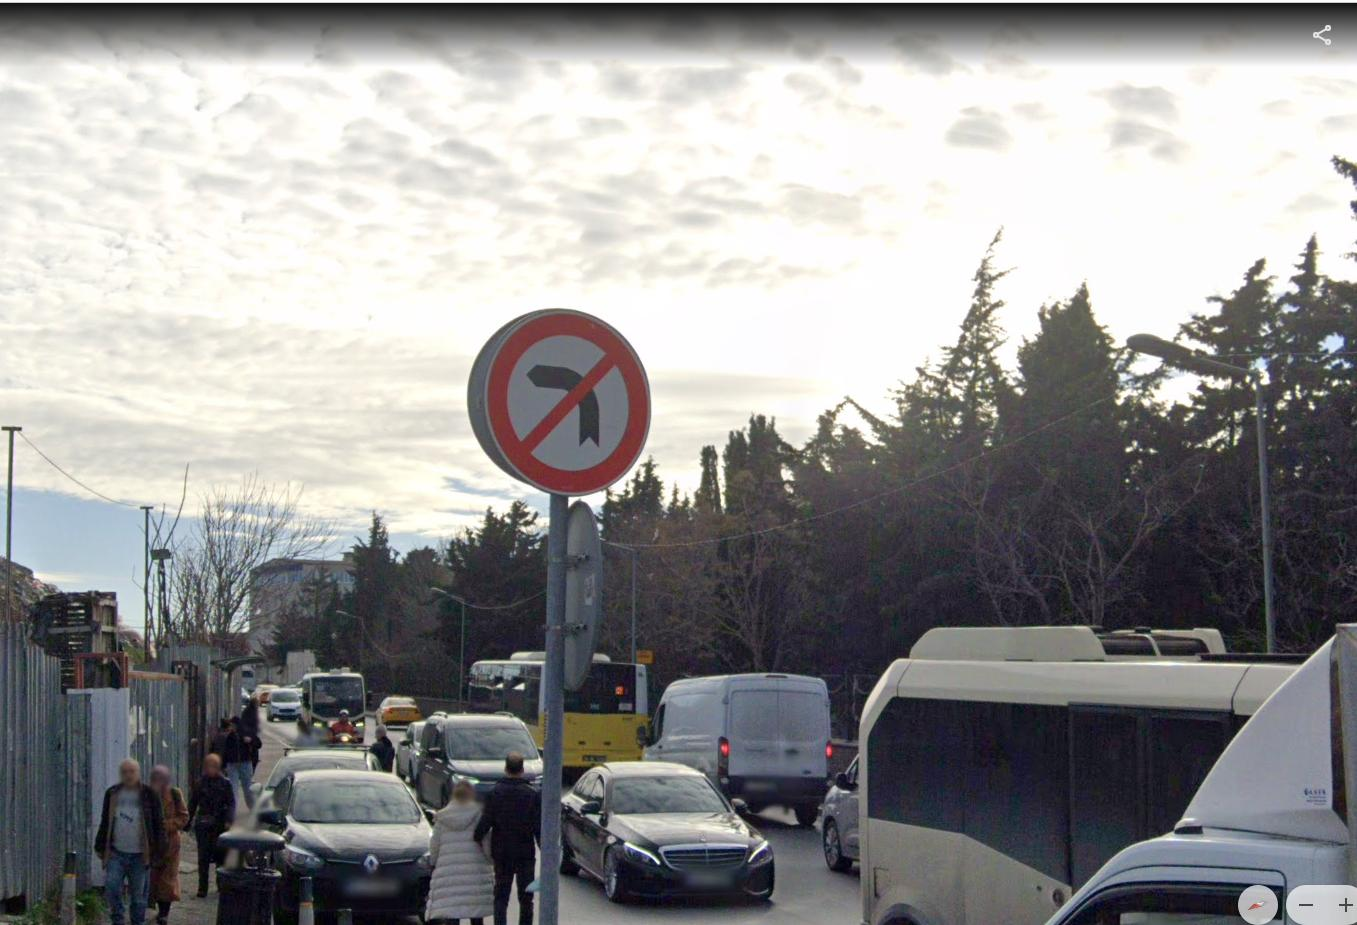leftturnsareforbidden: (498, 313, 634, 477)
